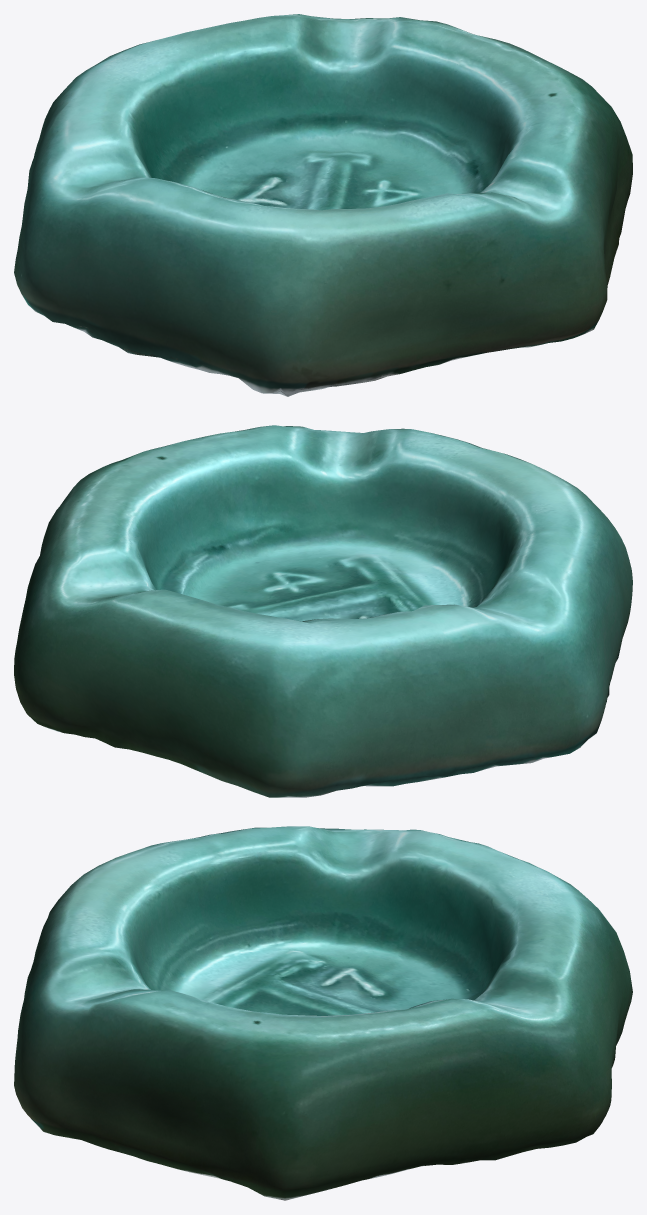
Rendered from ashtray.glb.
3 renders of one model, top to bottom at view 1: azimuth 30°, elevation 25°; view 2: azimuth 150°, elevation 25°; view 3: azimuth 270°, elevation 25°, orthographic.
Visible parts, largest first — view 1: baked_mesh.001; view 2: baked_mesh.001; view 3: baked_mesh.001.
Part boxes in pixels (bbox=[...]): baked_mesh.001: bbox=[14, 14, 632, 396]; baked_mesh.001: bbox=[14, 425, 632, 797]; baked_mesh.001: bbox=[14, 826, 632, 1200].
Size of the model in its own units: 0.5176 by 0.1304 by 0.4845.
1 material, 1 textured.
